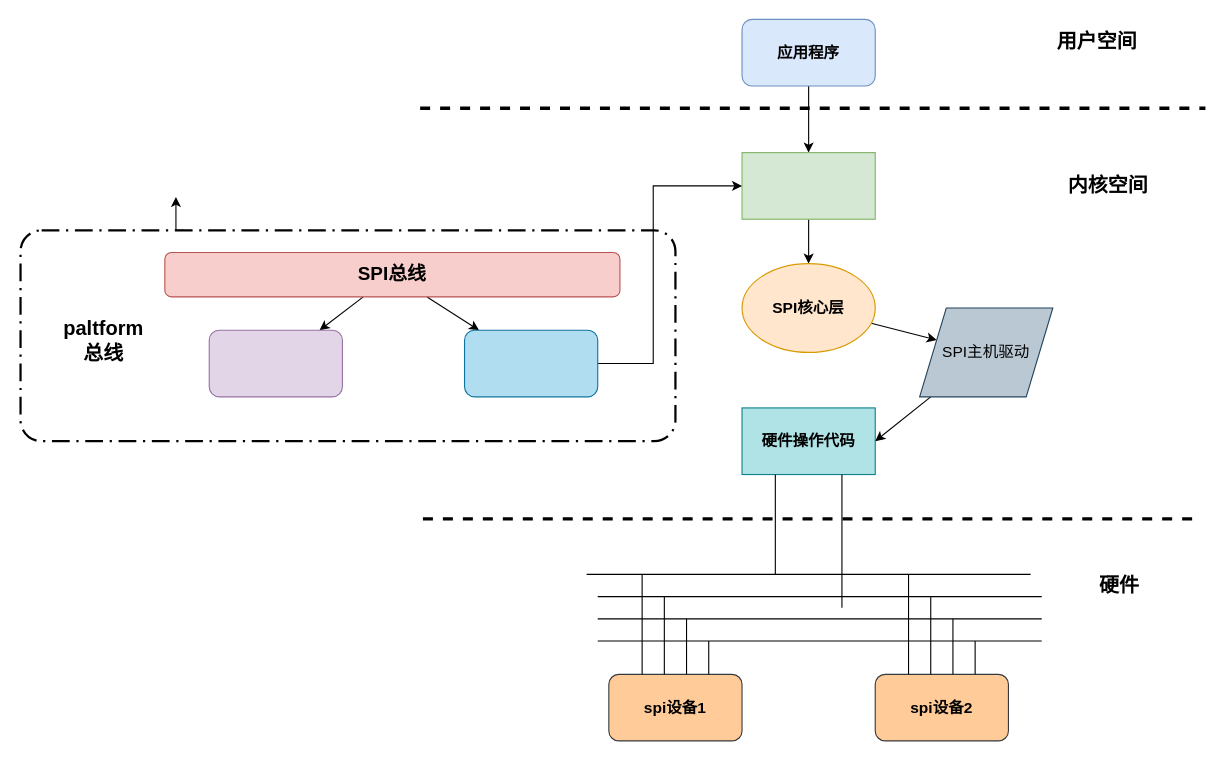
Some shapes in this 1227 by 760 pixel diagram are drawn without their labels. Each missing label, with the centre of its shape:
spi_device: the point at 275,363
spi_driver: the point at 530,363
字符设备驱动: the point at 808,185
